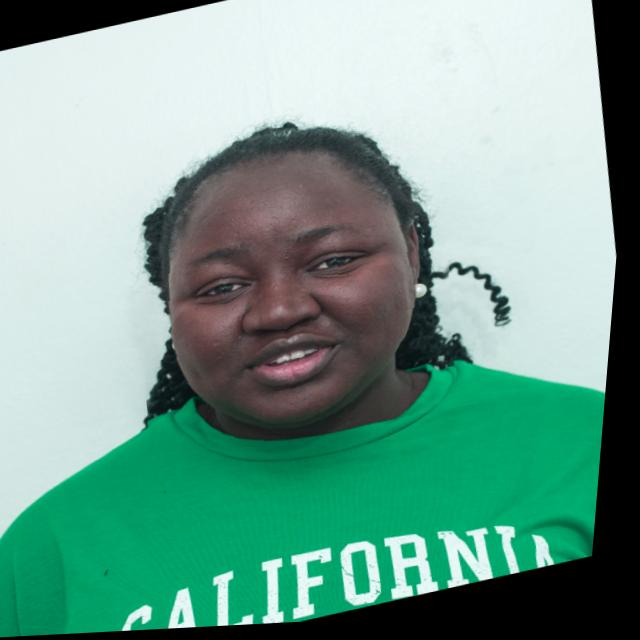happy: (105, 80, 494, 476)
